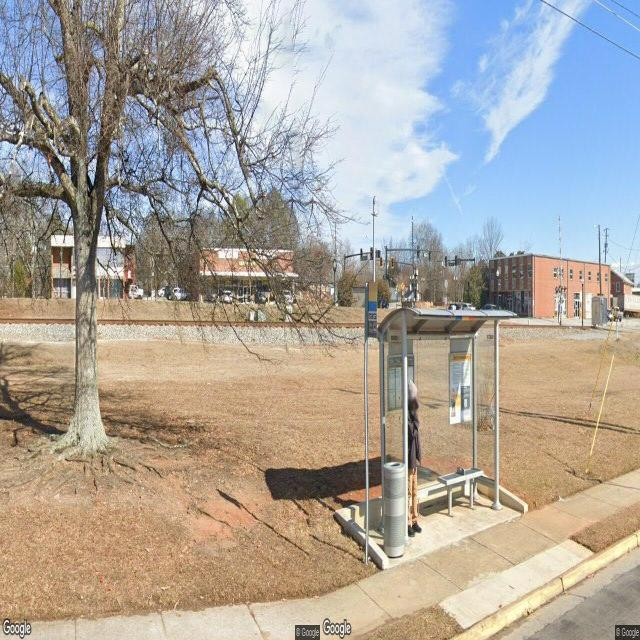seating: (437, 466, 484, 517)
shelter: (373, 307, 517, 541)
trash_can: (383, 461, 406, 558)
